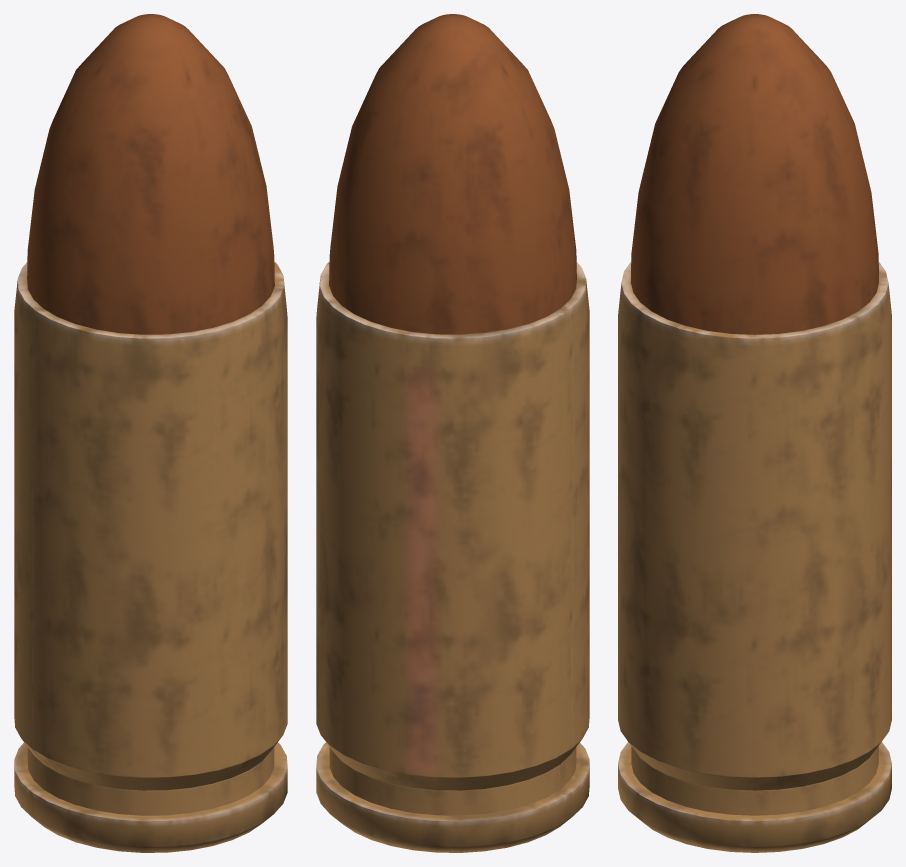
The model's file is round_9mm.glb.
3 renders of one model, left to right at view 1: azimuth 30°, elevation 25°; view 2: azimuth 150°, elevation 25°; view 3: azimuth 270°, elevation 25°, orthographic.
Visible parts, largest first — view 1: Round; view 2: Round; view 3: Round.
Boxes of the visible parts, box(x1,y1,x2,y2) form: Round: box(14, 14, 287, 852); Round: box(316, 14, 589, 852); Round: box(618, 14, 891, 852).
Bounding box in the file's own units: 0.0091 × 0.0287 × 0.0091.
1 material, 1 textured.
